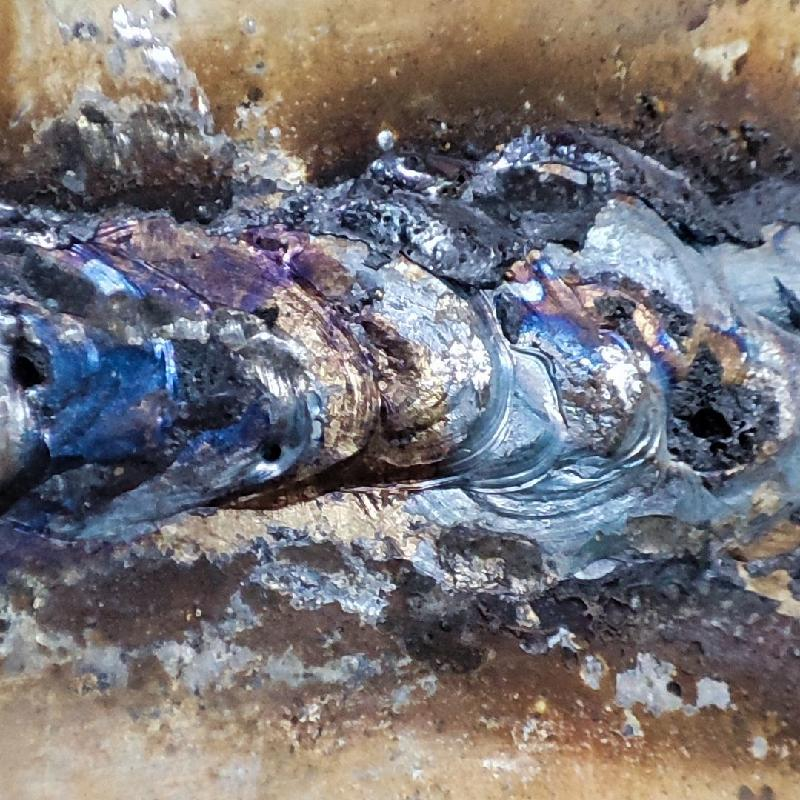Surface_pores: (665, 376, 765, 471), (2, 330, 62, 400), (241, 423, 293, 475), (244, 295, 298, 330)
good: (0, 173, 799, 536)
